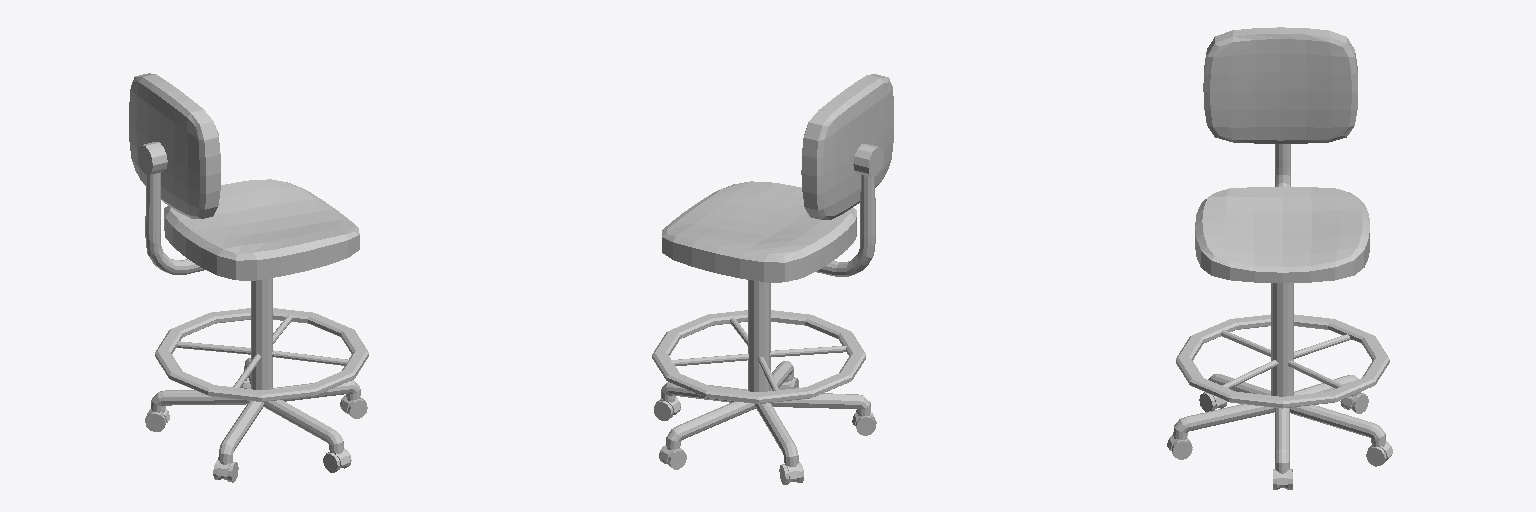
The model's file is WheelieChair.obj.
3 renders of one model, left to right at view 1: azimuth 30°, elevation 25°; view 2: azimuth 150°, elevation 25°; view 3: azimuth 270°, elevation 25°, orthographic.
Visible parts, largest first — view 1: WheelieChair; view 2: WheelieChair; view 3: WheelieChair.
Boxes of the visible parts, box(x1,y1,x2,y2) form: WheelieChair: box(129, 73, 368, 482); WheelieChair: box(652, 74, 893, 484); WheelieChair: box(1167, 27, 1392, 489).
Bounding box in the file's own units: 3.05 × 4.92 × 2.73.